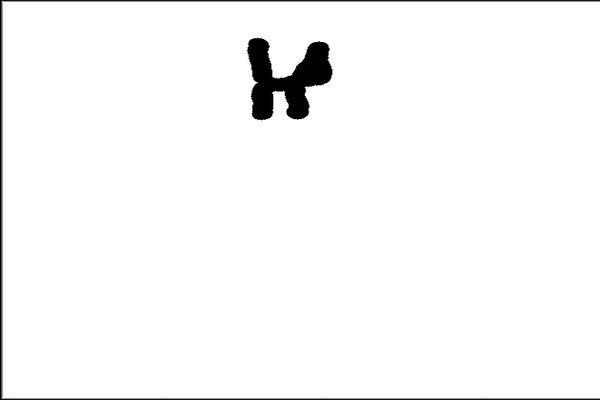H: (242, 30, 334, 122)
